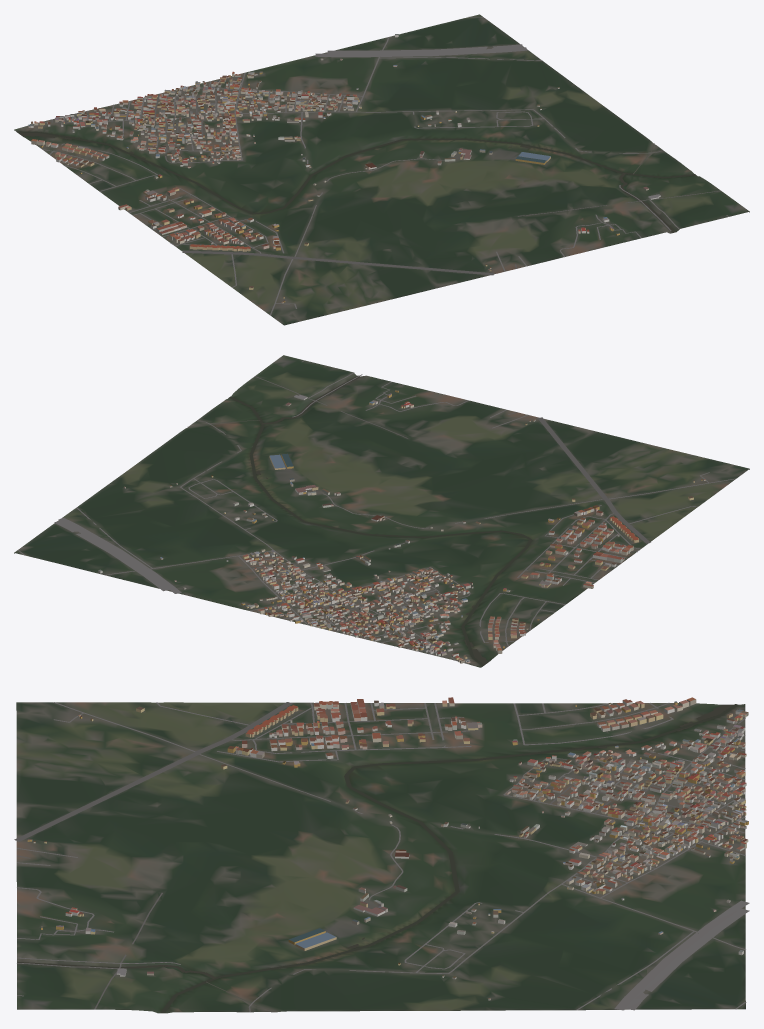
The picture shows the model from 3 angles, top to bottom: view 1: azimuth 30°, elevation 25°; view 2: azimuth 150°, elevation 25°; view 3: azimuth 270°, elevation 25°; orthographic projection. The views are drawn at different scales.
Parts seen in each view (by area): view 1: ground, buildings, roads, water; view 2: ground, buildings, roads, water; view 3: ground, buildings, roads, water.
Boxes of the visible parts, left/top/right/bottom form: ground: left=14, top=14, right=749, bottom=325; buildings: left=28, top=34, right=660, bottom=303; roads: left=38, top=16, right=728, bottom=315; water: left=17, top=131, right=696, bottom=232; ground: left=14, top=355, right=749, bottom=667; buildings: left=98, top=390, right=705, bottom=663; roads: left=17, top=360, right=735, bottom=660; water: left=188, top=375, right=532, bottom=665; ground: left=16, top=702, right=745, bottom=1013; buildings: left=27, top=697, right=748, bottom=1000; roads: left=14, top=702, right=749, bottom=1012; water: left=17, top=704, right=738, bottom=1012.
Size of the model in its own units: 1414 by 21.4 by 1416.
